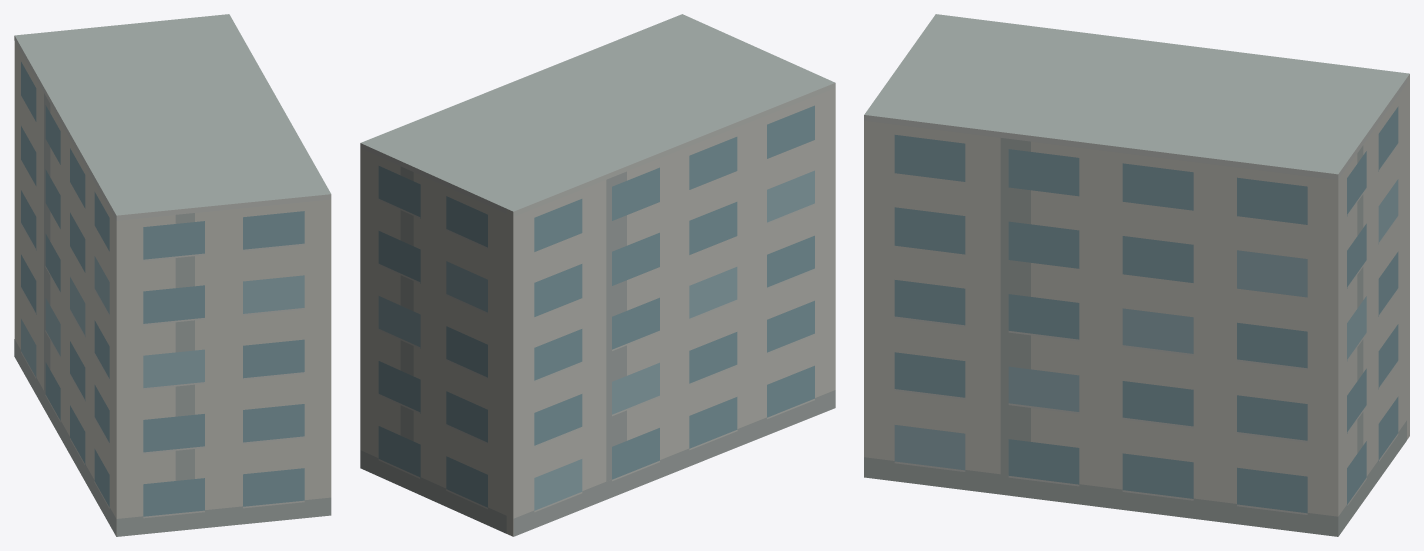
The model's file is survey-upis-32871013.glb.
The picture shows the model from 3 angles, left to right: view 1: azimuth 30°, elevation 25°; view 2: azimuth 150°, elevation 25°; view 3: azimuth 270°, elevation 25°; orthographic projection. The views are drawn at different scales.
Parts seen in each view (by area): view 1: survey-upis-32871013.tmp; view 2: survey-upis-32871013.tmp; view 3: survey-upis-32871013.tmp.
Boxes of the visible parts, bbox=[...] form: survey-upis-32871013.tmp: bbox=[14, 14, 331, 536]; survey-upis-32871013.tmp: bbox=[360, 14, 835, 536]; survey-upis-32871013.tmp: bbox=[864, 14, 1409, 536].
Bounding box in the file's own units: 14.47 × 15.25 × 20.81.
